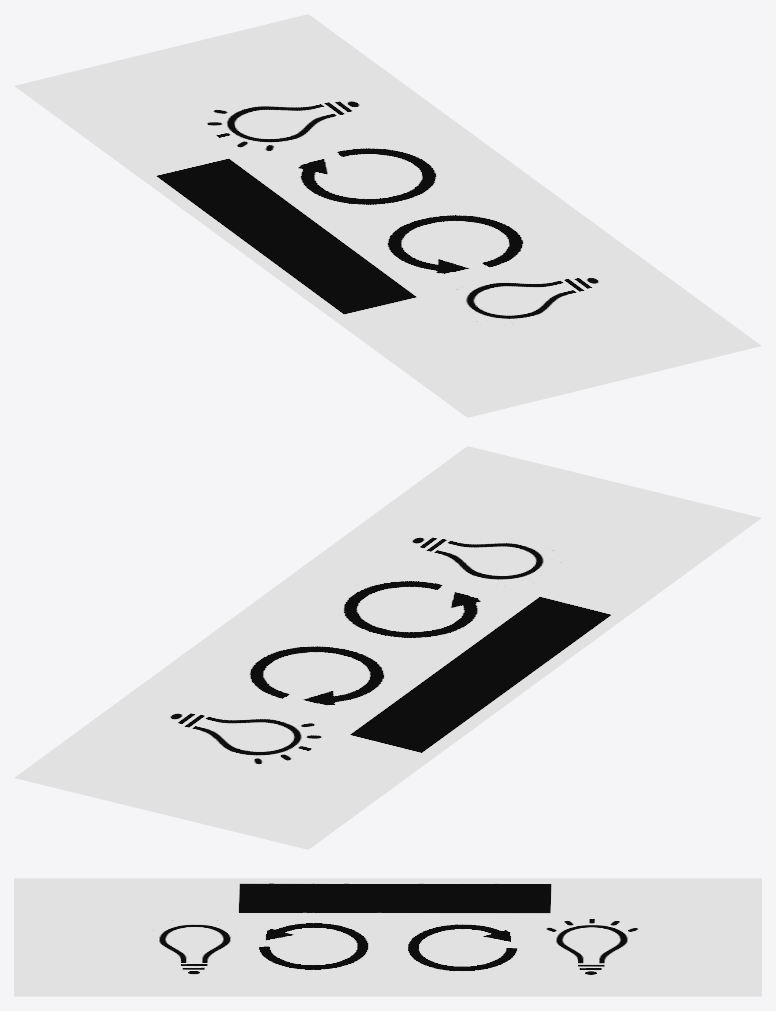
The model's file is lightmakingsign.fbx.
The picture shows the model from 3 angles, top to bottom: view 1: azimuth 30°, elevation 25°; view 2: azimuth 150°, elevation 25°; view 3: azimuth 270°, elevation 25°; orthographic projection. The views are drawn at different scales.
Parts seen in each view (by area): view 1: pPlane1; view 2: pPlane1; view 3: pPlane1.
Part boxes in pixels (<box>): pPlane1: <box>14,14,761,417</box>; pPlane1: <box>14,446,761,849</box>; pPlane1: <box>14,878,761,996</box>.
Size of the model in its own units: 6 by 2.22e-16 by 16.
Materials: 1 (1 with a texture image).
